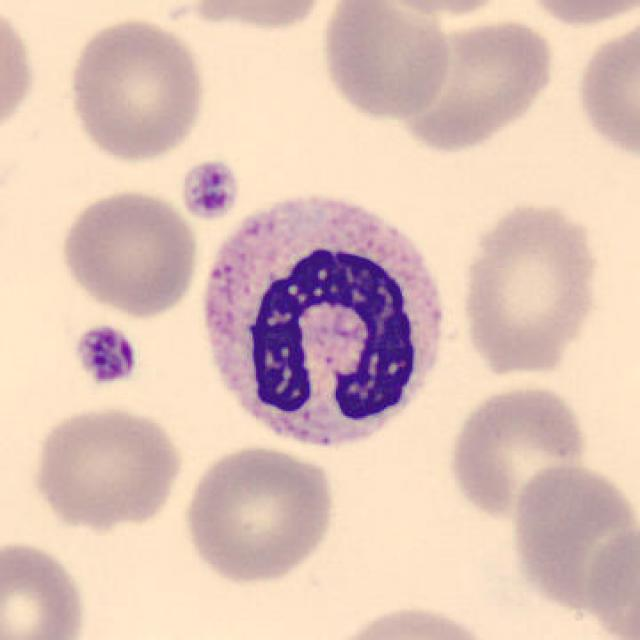Neutrophil: (190, 183, 455, 464)
Platelets: (71, 321, 141, 388), (178, 159, 242, 222)
RBC: (455, 196, 605, 381), (386, 13, 560, 154), (180, 443, 340, 587), (62, 12, 210, 164), (505, 456, 636, 618), (443, 381, 590, 525), (27, 400, 186, 532), (55, 185, 203, 319), (316, 0, 456, 123), (571, 12, 638, 168), (0, 536, 91, 640), (318, 599, 505, 640), (581, 520, 640, 640), (167, 0, 334, 33), (0, 1, 37, 148), (514, 0, 638, 30)
